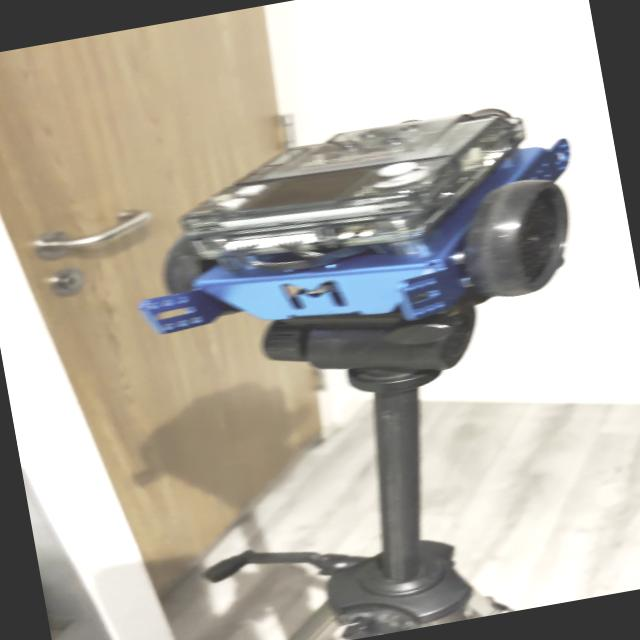mbot-detection: (110, 87, 608, 376)
